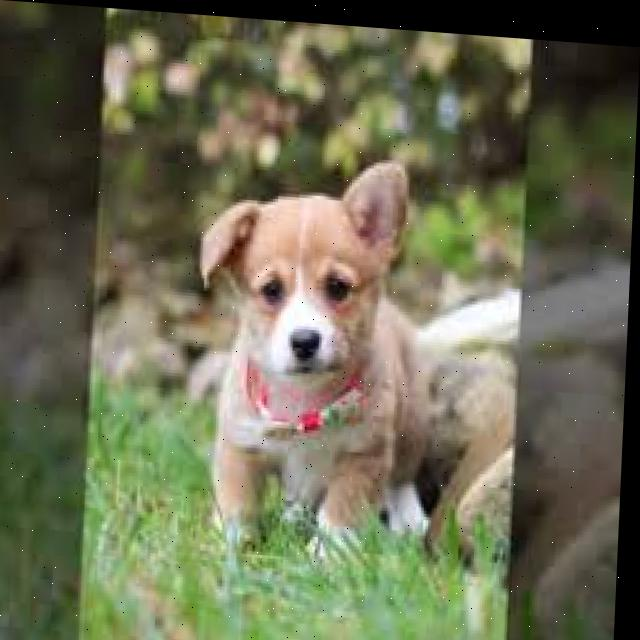CORGI: (178, 120, 518, 576)
